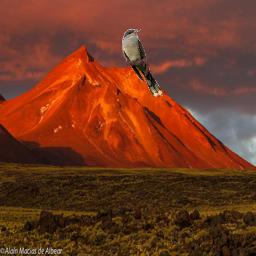Cuckoo: (122, 29, 163, 97)
